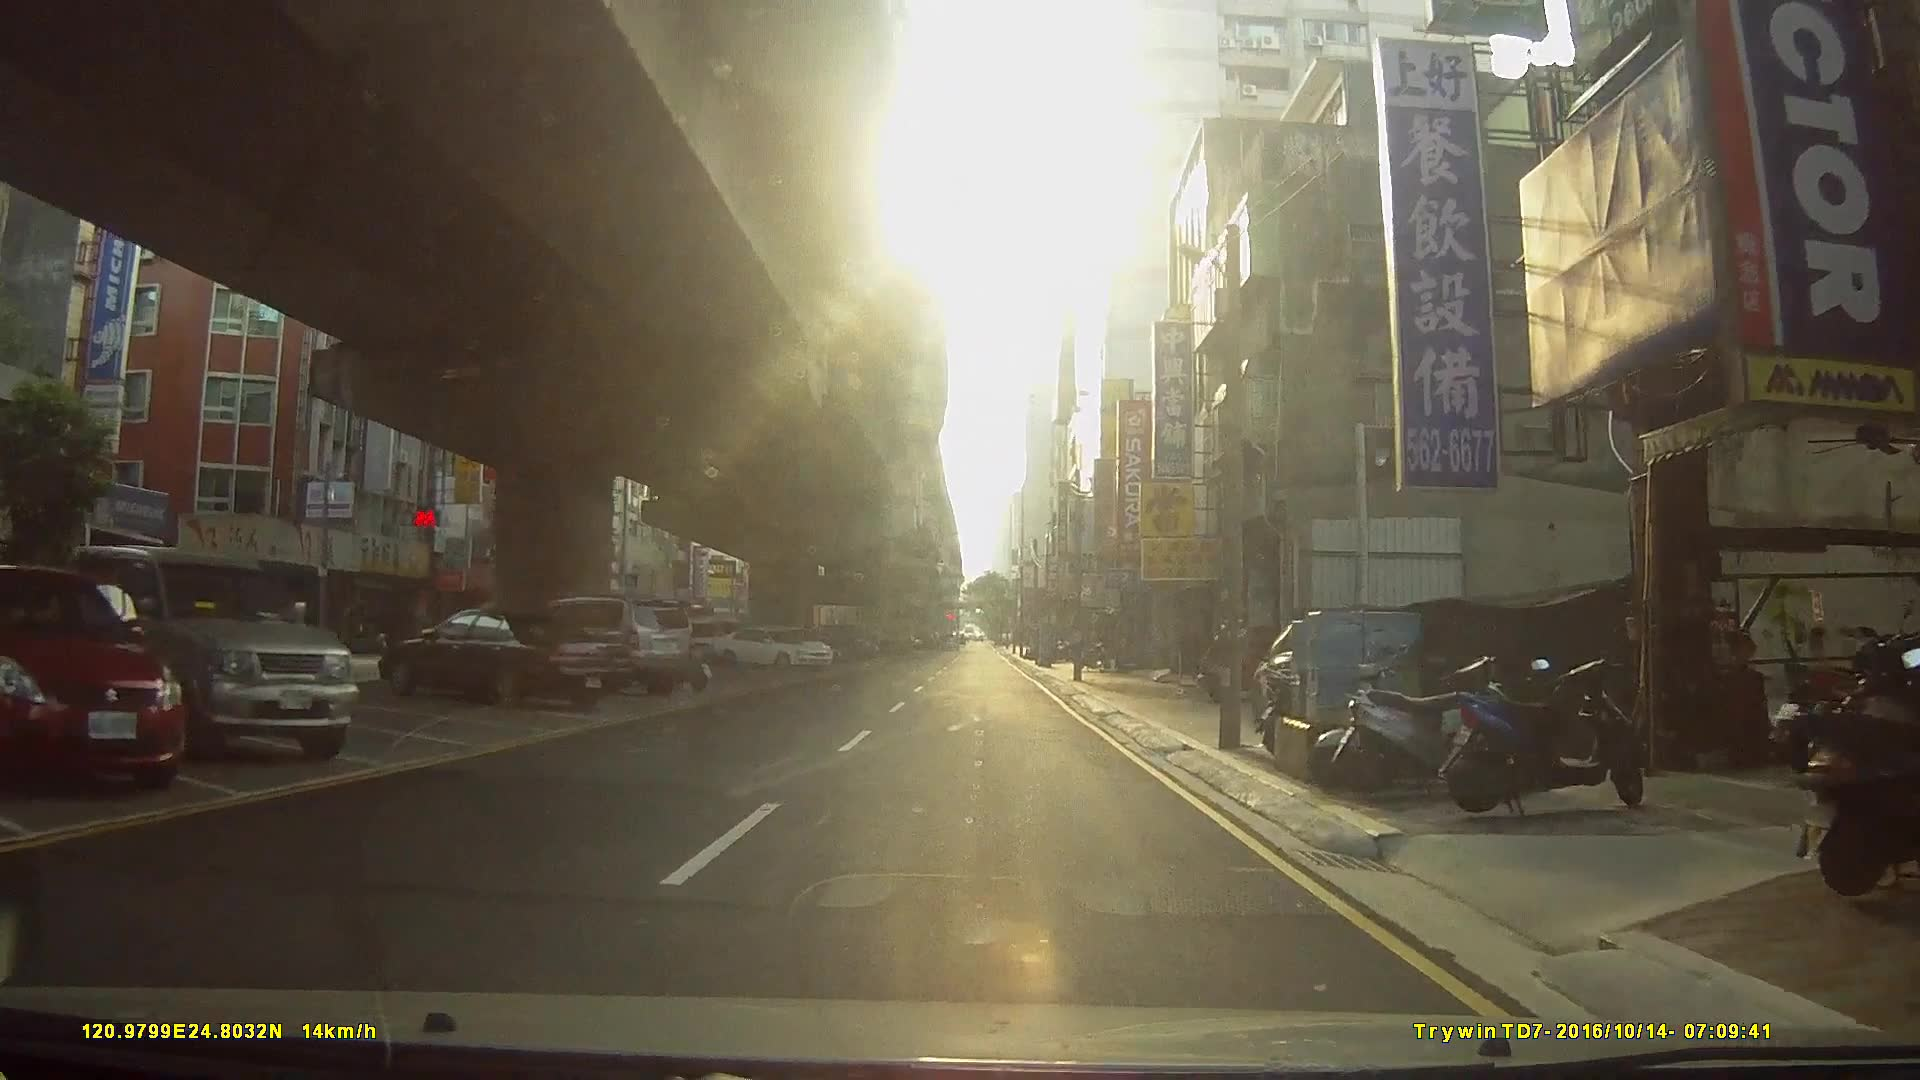vehicle: (58, 543, 357, 764), (0, 564, 178, 790), (378, 607, 638, 709), (520, 593, 695, 698), (709, 626, 837, 673)
